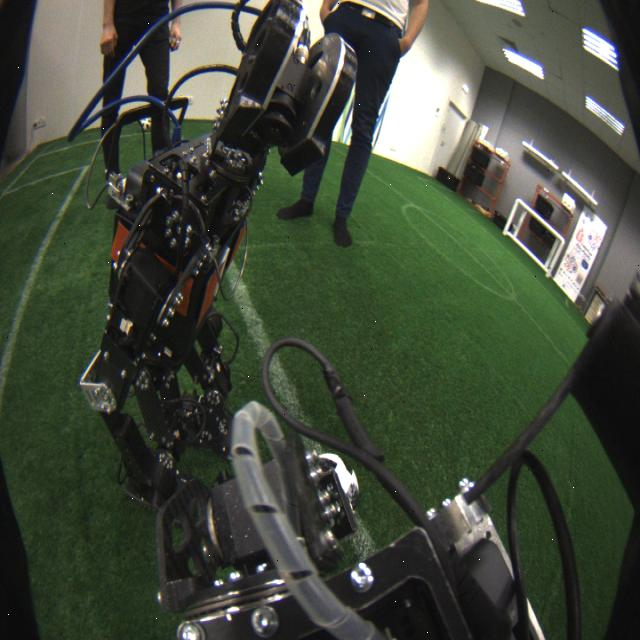ball: (305, 449, 359, 520), (140, 114, 152, 132)
goalpost: (545, 237, 566, 279), (502, 197, 520, 236)
